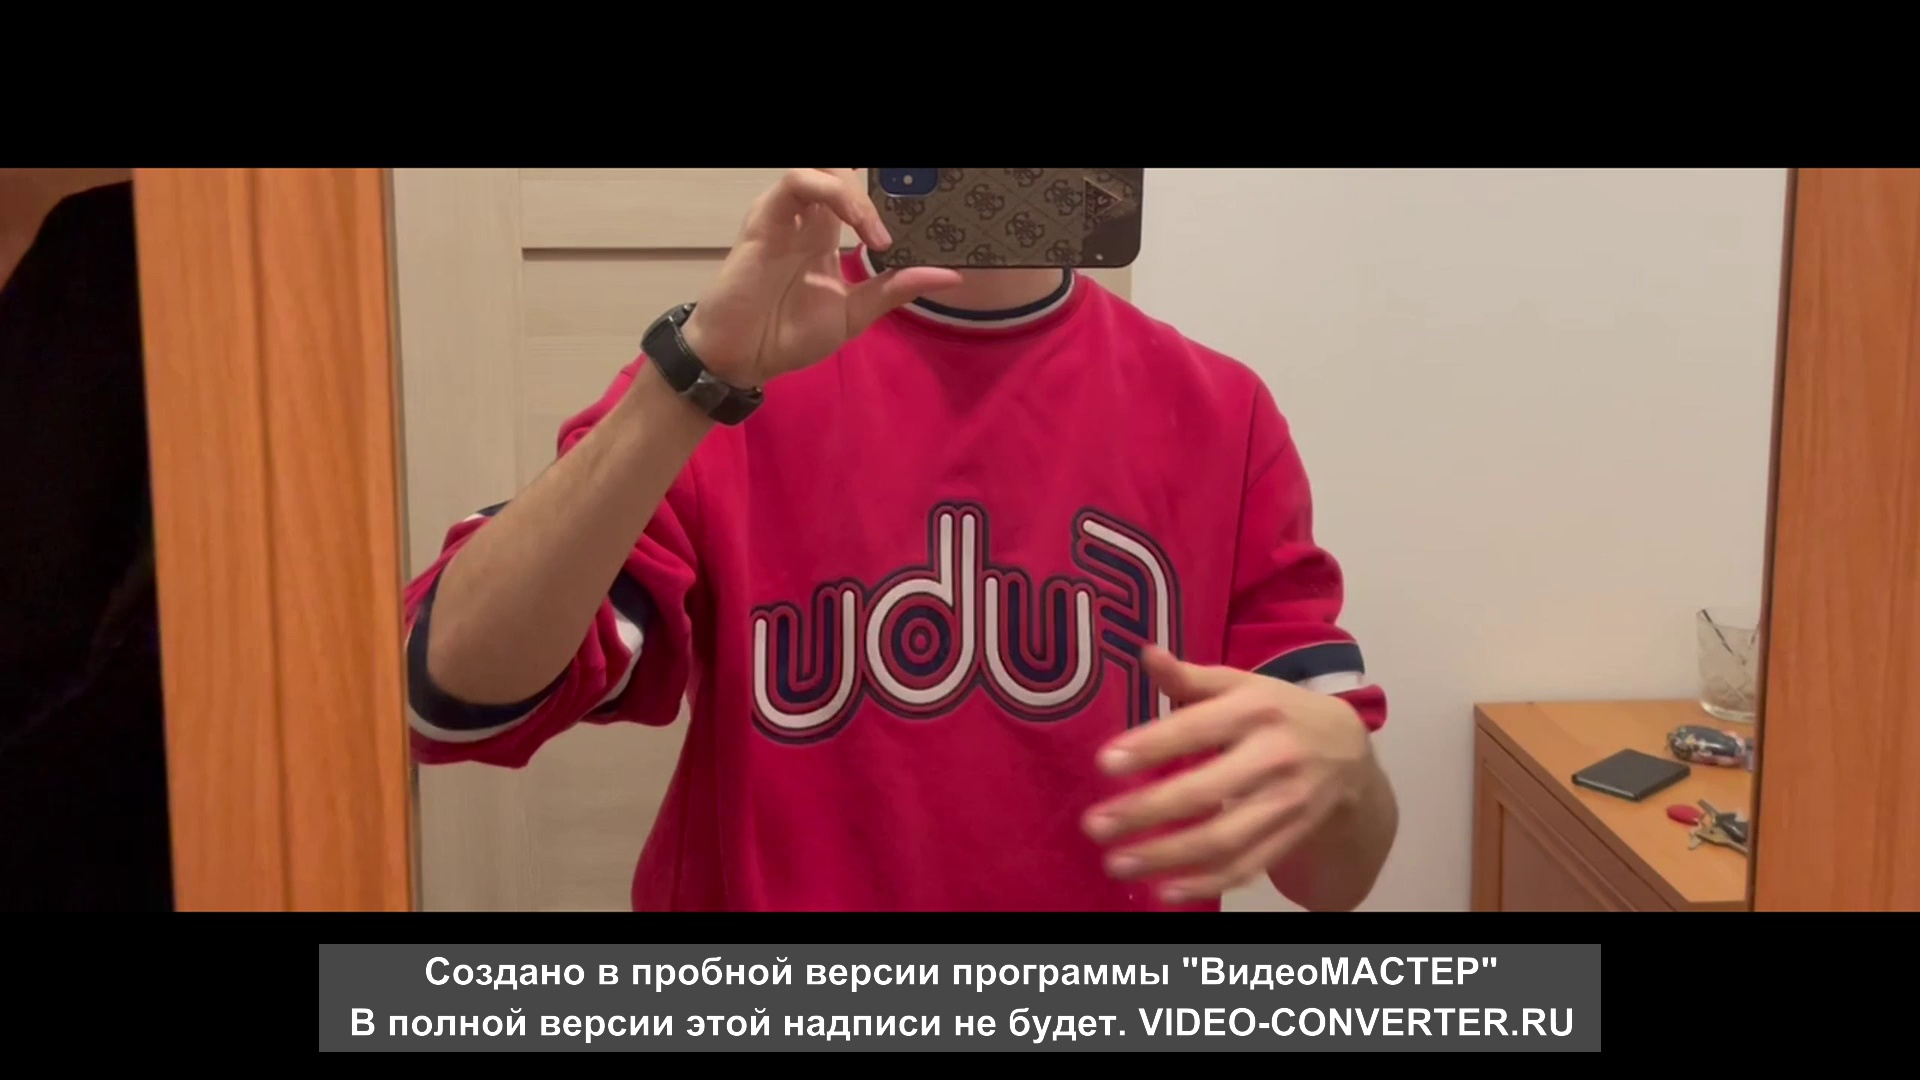Кисть: (1083, 642, 1360, 901)
